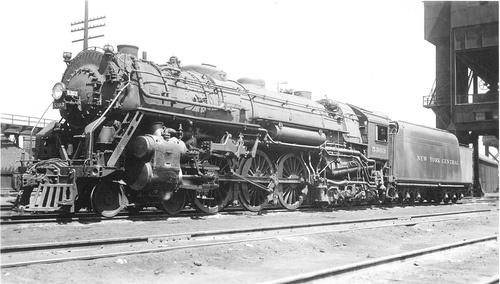train: (11, 40, 479, 213)
